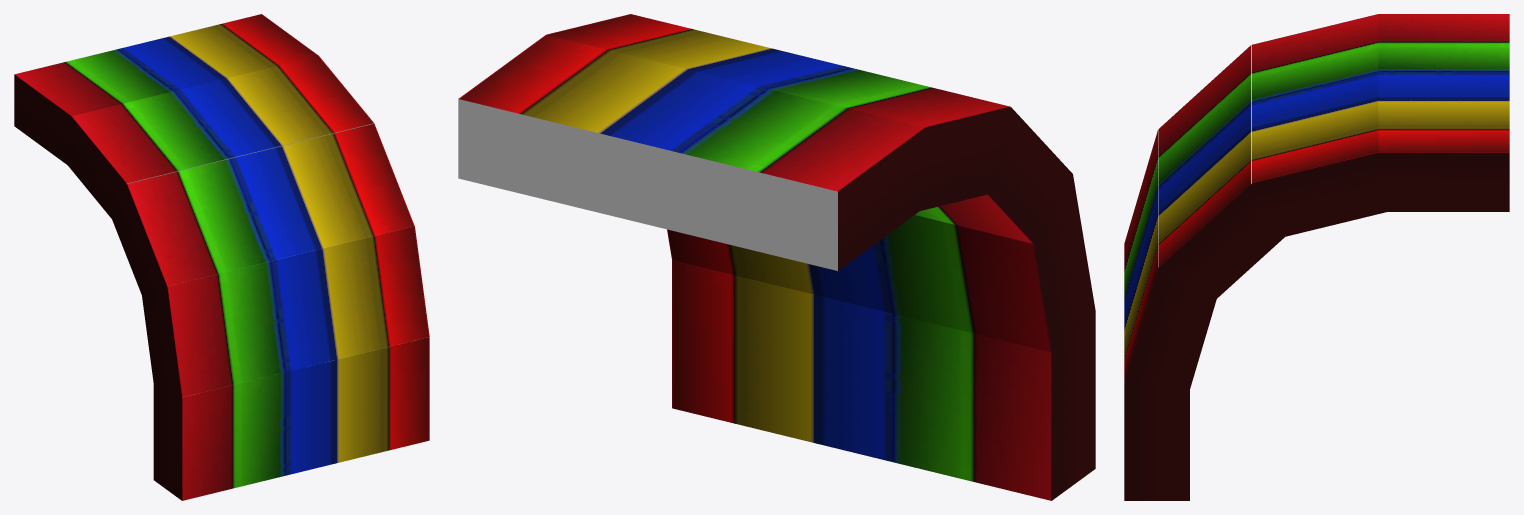
The model's file is Cable01-Interface.fbx.
The picture shows the model from 3 angles, left to right: view 1: azimuth 30°, elevation 25°; view 2: azimuth 150°, elevation 25°; view 3: azimuth 270°, elevation 25°; orthographic projection. The views are drawn at different scales.
Parts seen in each view (by area): view 1: node_id8 (×2); view 2: node_id8 (×3); view 3: node_id8 (×2).
Part boxes in pixels (x1,y1,x2,y2): node_id8 (×2): (14, 14, 429, 500); node_id8 (×3): (458, 14, 1095, 500); node_id8 (×2): (1124, 14, 1509, 500).
Bounding box in the file's own units: 0.4369 × 0.512 × 0.513.
Materials: 3 (2 with a texture image).
